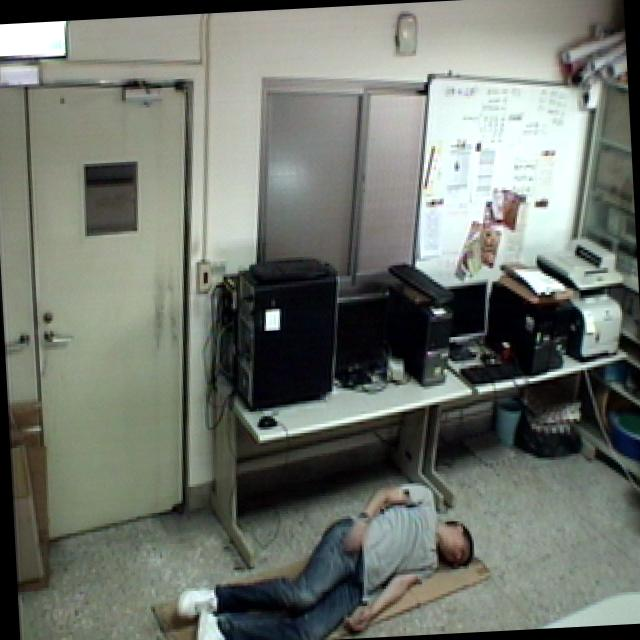lie: (160, 473, 493, 640)
